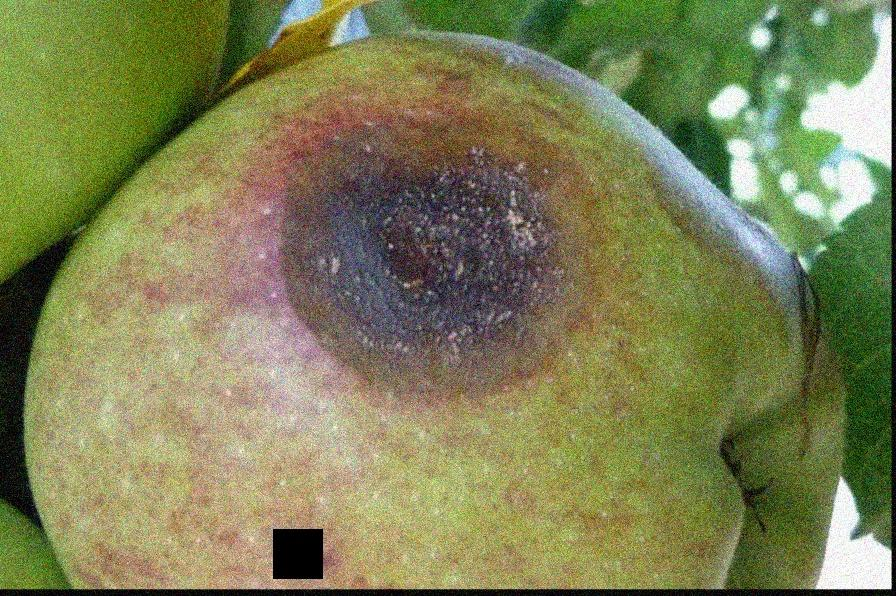rotten apple: (30, 31, 846, 589)
